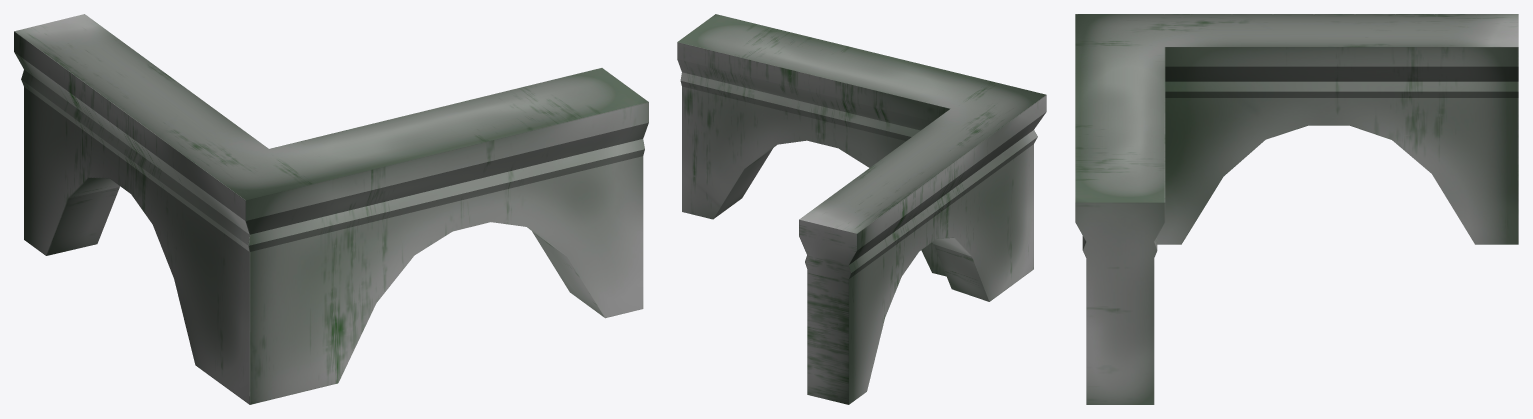
Rendered from CornerArch.fbx.
3 renders of one model, left to right at view 1: azimuth 30°, elevation 25°; view 2: azimuth 150°, elevation 25°; view 3: azimuth 270°, elevation 25°, orthographic. The views are drawn at different scales.
Visible parts, largest first — view 1: CornerArch; view 2: CornerArch; view 3: CornerArch.
Part boxes in pixels (x1,y1,x2,y2): CornerArch: (14, 14, 648, 404); CornerArch: (677, 14, 1046, 404); CornerArch: (1075, 14, 1518, 404).
Bounding box in the file's own units: 160 × 79.72 × 158.
